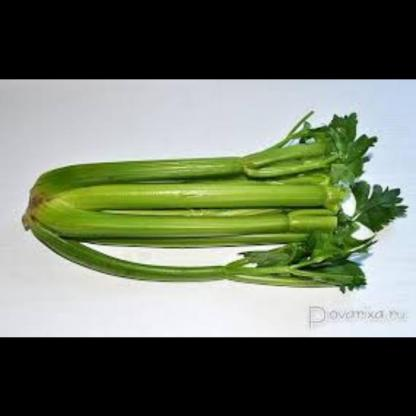celery: (17, 102, 415, 300)
